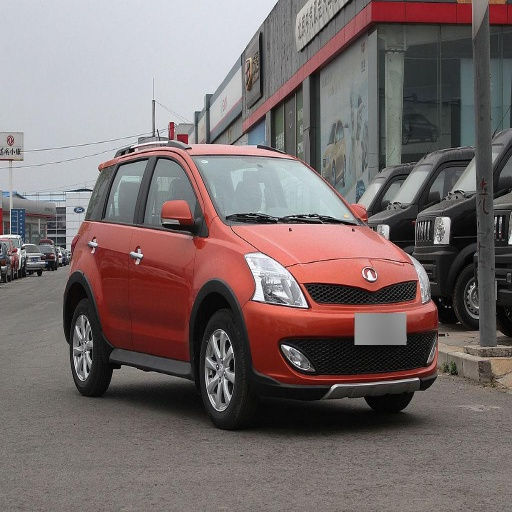front_bumper: (242, 258, 436, 399)
front_right_door: (133, 151, 202, 358)
front_right_light: (247, 255, 307, 308)
